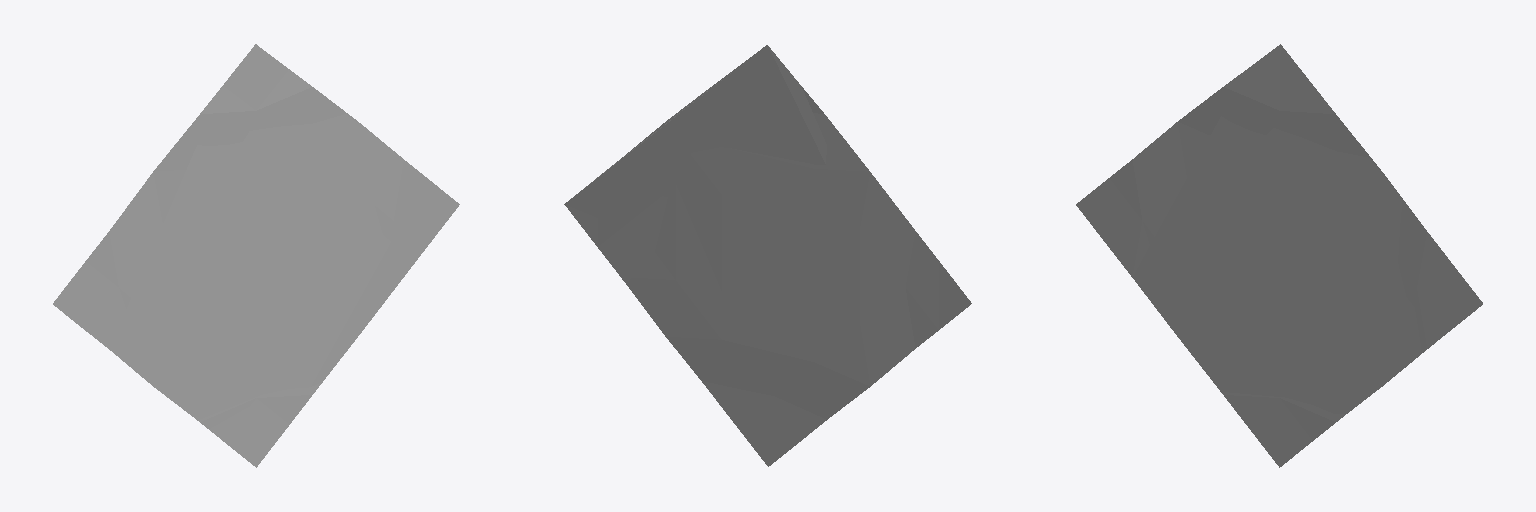
The model's file is Paper Thing.obj.
3 renders of one model, left to right at view 1: azimuth 30°, elevation 25°; view 2: azimuth 150°, elevation 25°; view 3: azimuth 330°, elevation 25°, orthographic.
Parts seen in each view (by area): view 1: enemy_cemter, enemy; view 2: enemy, enemy_cemter; view 3: enemy_cemter, enemy.
Boxes of the visible parts, x1=… form: enemy_cemter: x1=109, y1=114, x2=397, y2=466; enemy: x1=53, y1=44, x2=459, y2=467; enemy: x1=564, y1=47, x2=971, y2=465; enemy_cemter: x1=565, y1=45, x2=826, y2=466; enemy_cemter: x1=1132, y1=116, x2=1420, y2=467; enemy: x1=1076, y1=44, x2=1482, y2=466.
Bounding box in the file's own units: 180 × 178 × 0.6904.